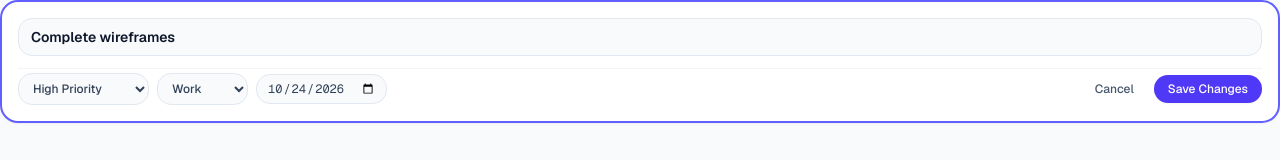
Test: TaskCardComponent › should cancel edit mode when Cancel button is clicked
Click the button with class "cancel-edit-btn": x=1114, y=89 [1083,75,1146,103]
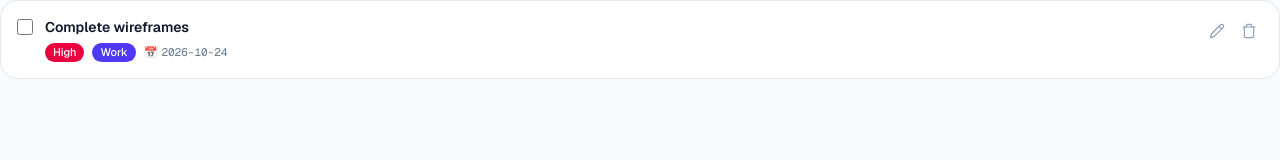
Expected: the element with class "inline-edit-card" is gone
